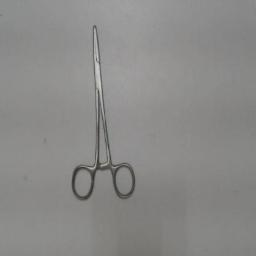Mayo Needle Holder: (68, 17, 140, 207)
